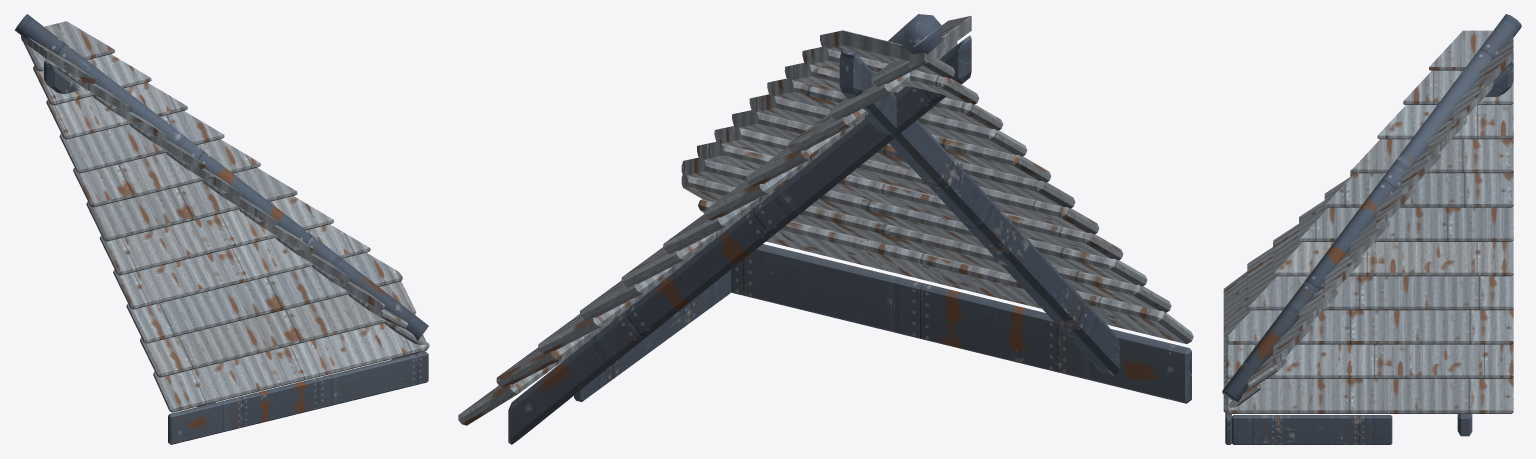
The model's file is cati_kosesi.glb.
3 views of the same model, side by side, from view 1: azimuth 30°, elevation 25°; view 2: azimuth 150°, elevation 25°; view 3: azimuth 270°, elevation 25° (orthographic). The views are drawn at different scales.
Parts seen in each view (by area): view 1: cati_kosesi; view 2: cati_kosesi; view 3: cati_kosesi.
Boxes of the visible parts, x1,y1,x2,y2 form: cati_kosesi: [14, 14, 429, 444]; cati_kosesi: [458, 14, 1193, 444]; cati_kosesi: [1222, 14, 1521, 444].
Size of the model in its own units: 3.71 by 4.24 by 3.7.
Materials: 1 (1 with a texture image).
